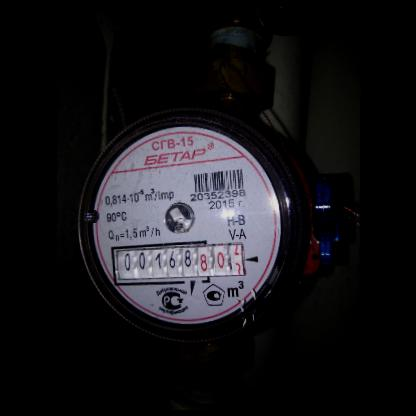digital_screen: (107, 240, 198, 286)
